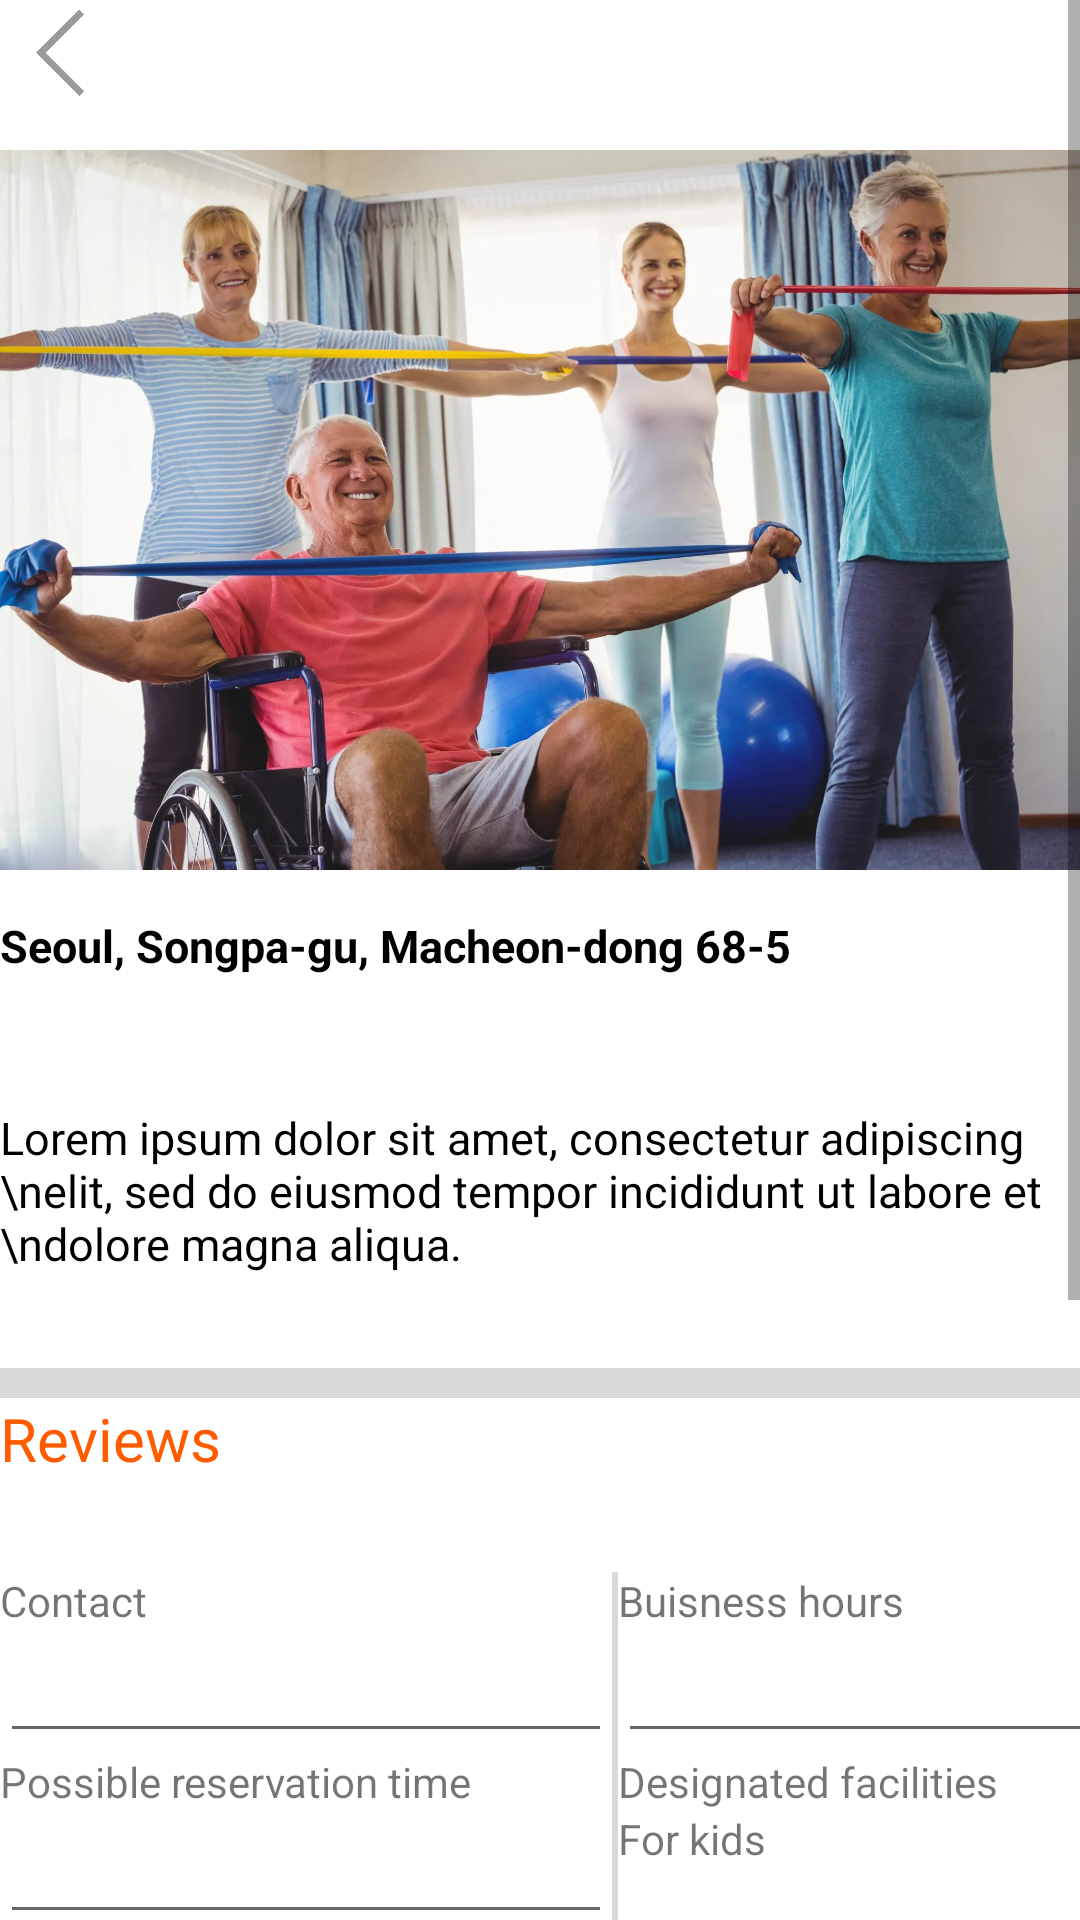

Icons on this 1080 x 1920 Android screen, each with the point to tap as point (x, y):
prebutton: point (60, 53)
